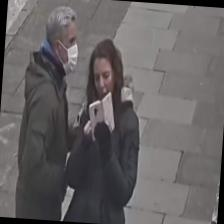person: (12, 2, 83, 221), (68, 36, 147, 224)
